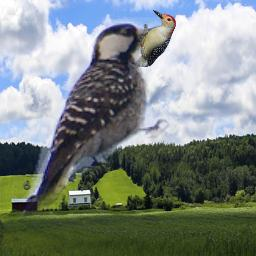Woodpecker: (12, 11, 178, 225), (136, 10, 176, 67)
